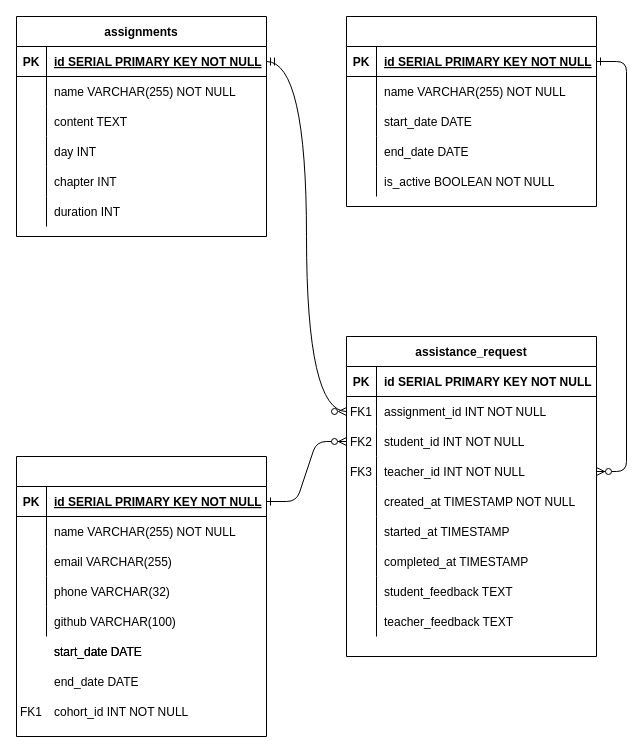
Image size: 643x753. Some labels were removed from this diagram. Here are the shapes that lost their labels. From the top down, the box of each, then its label:
(346, 16, 596, 206): teacher
(16, 456, 266, 736): students
